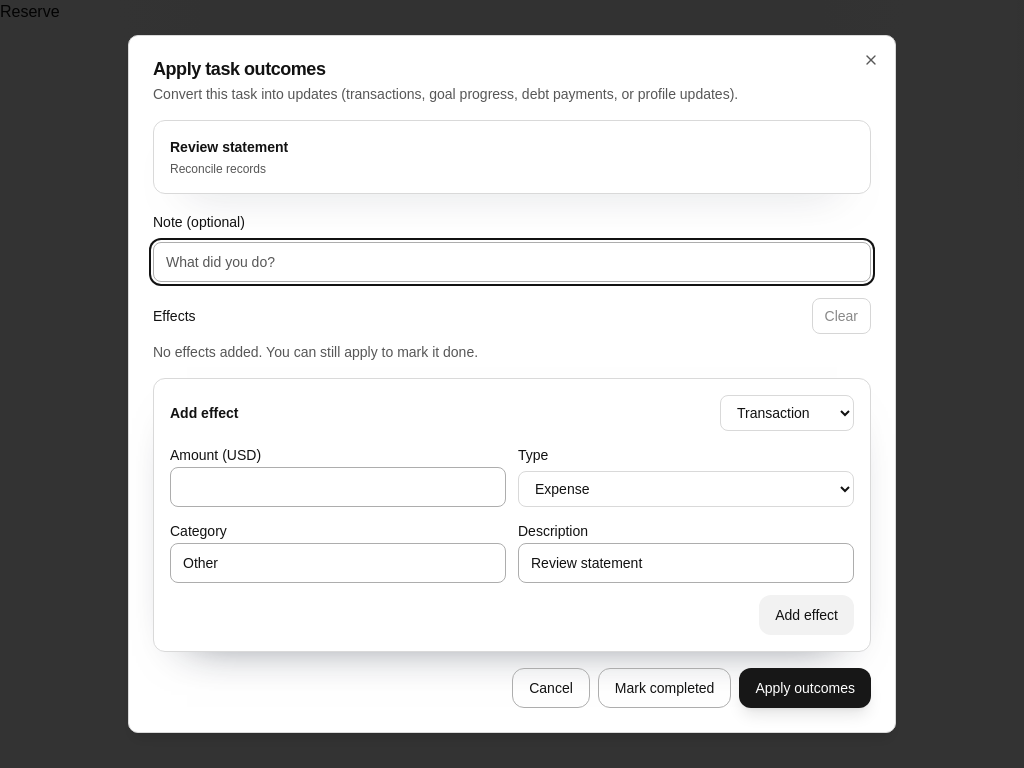
Test: exposes named effect fields and accepts cent precision
expect the dropdown named "Transaction type" is shown: met, box [518,471,854,507]
Select "Goal progress" in the dropdown named "Effect type" at (787, 413), box [720,395,854,431]
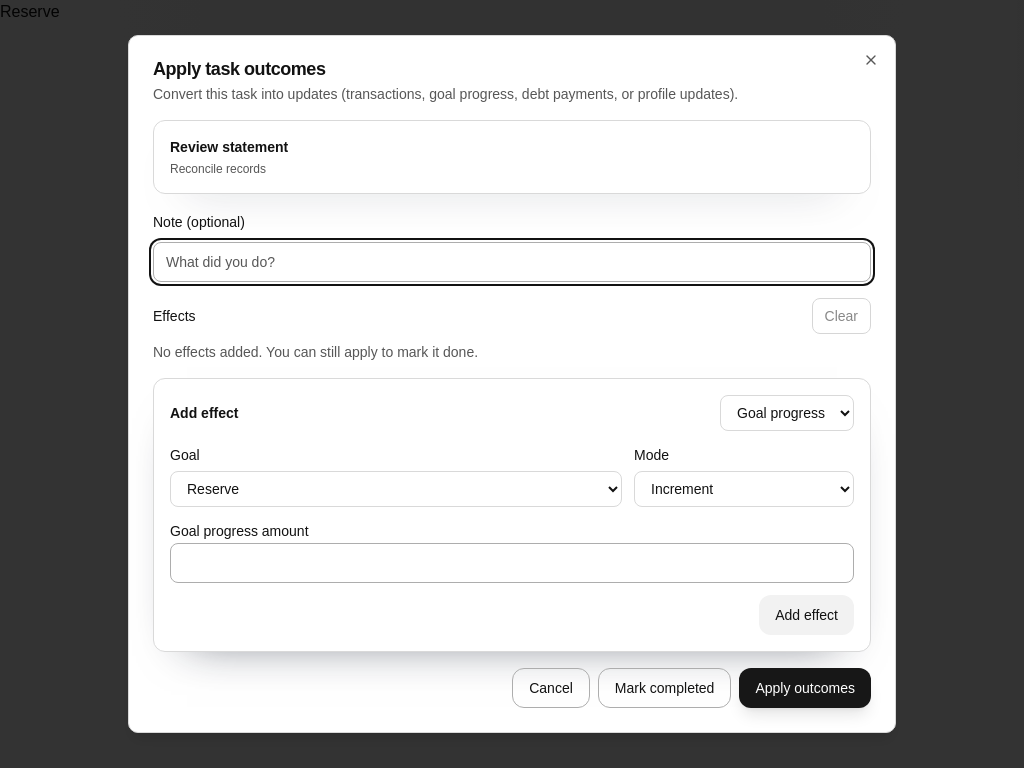
expect the dropdown labelled "Goal" shows "Reserve": met, box [170,471,622,507]
Select "Debt payment" in the dropdown named "Effect type" at (787, 413), box [720,395,854,431]
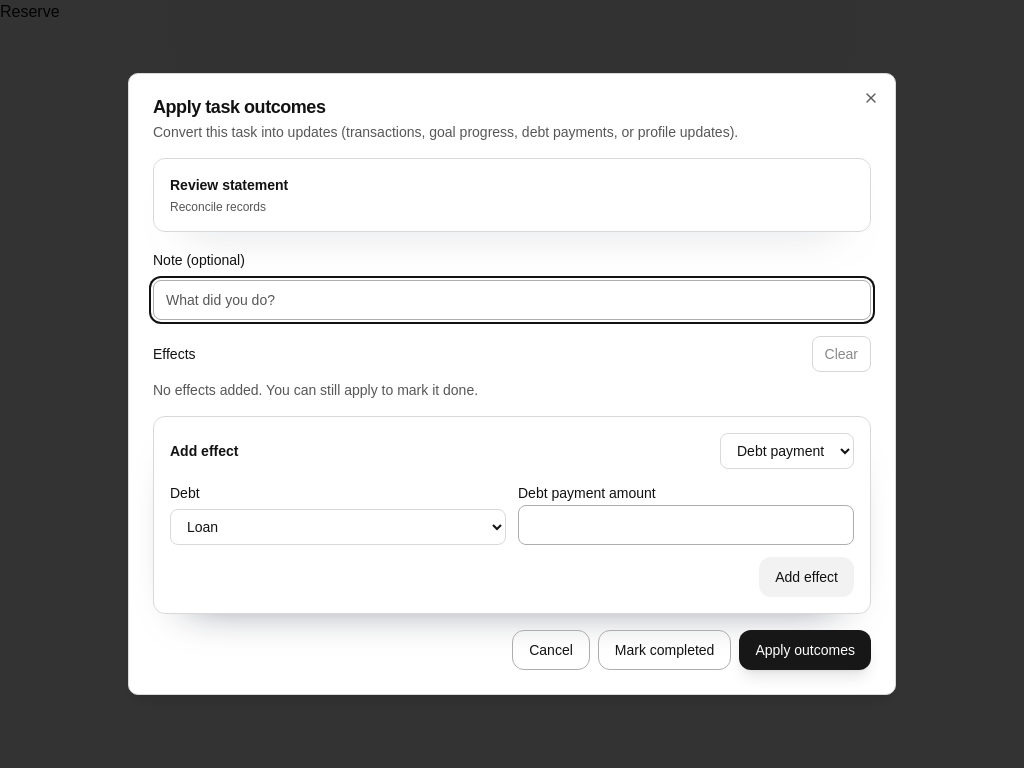
expect the dropdown labelled "Debt" shows "Loan": met, box [170,509,506,545]
